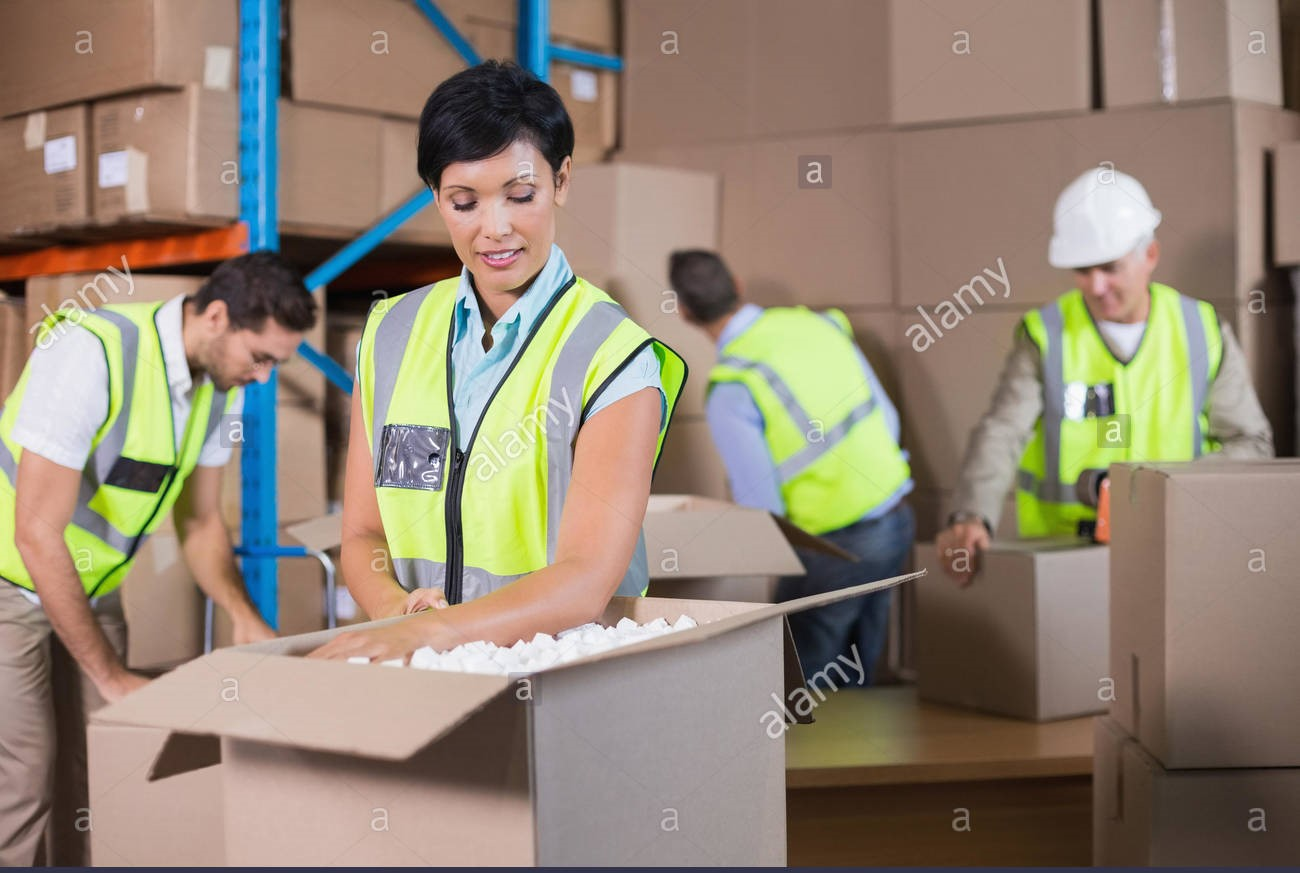epi: (953, 160, 1274, 567)
noepi: (321, 58, 667, 681), (1, 243, 320, 873), (670, 240, 915, 673)
